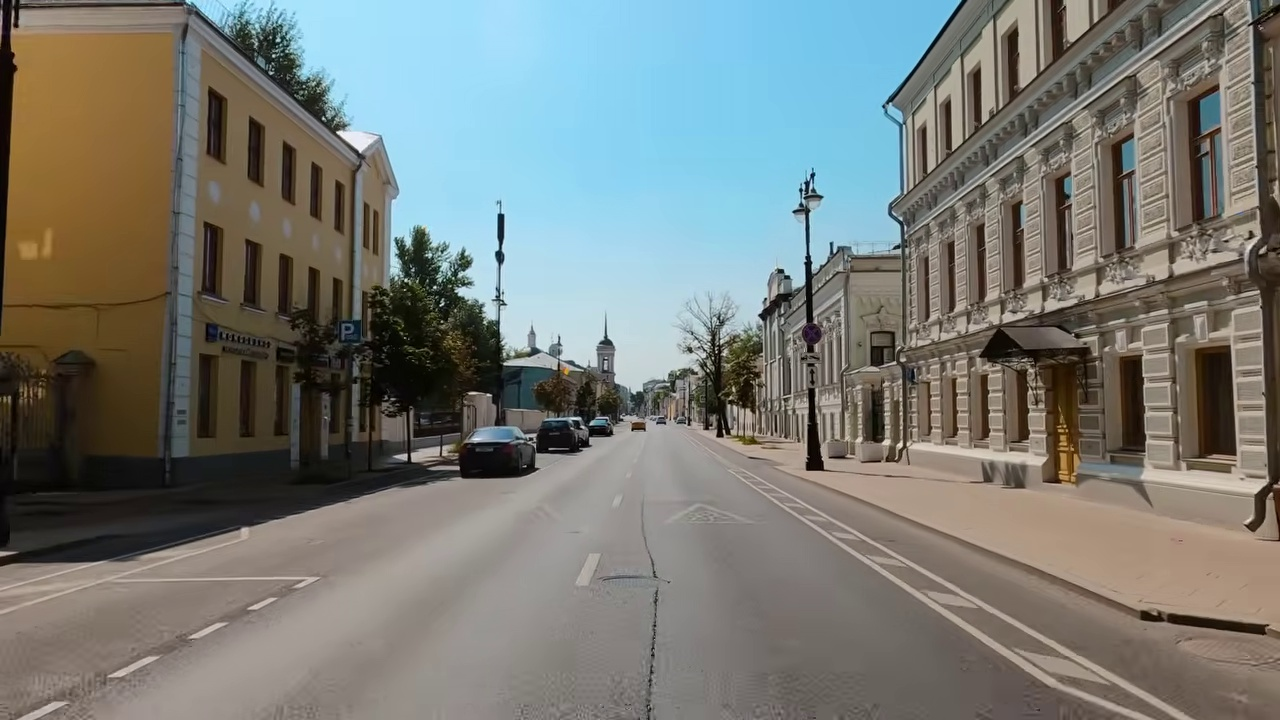apagada: (788, 187, 824, 224)
